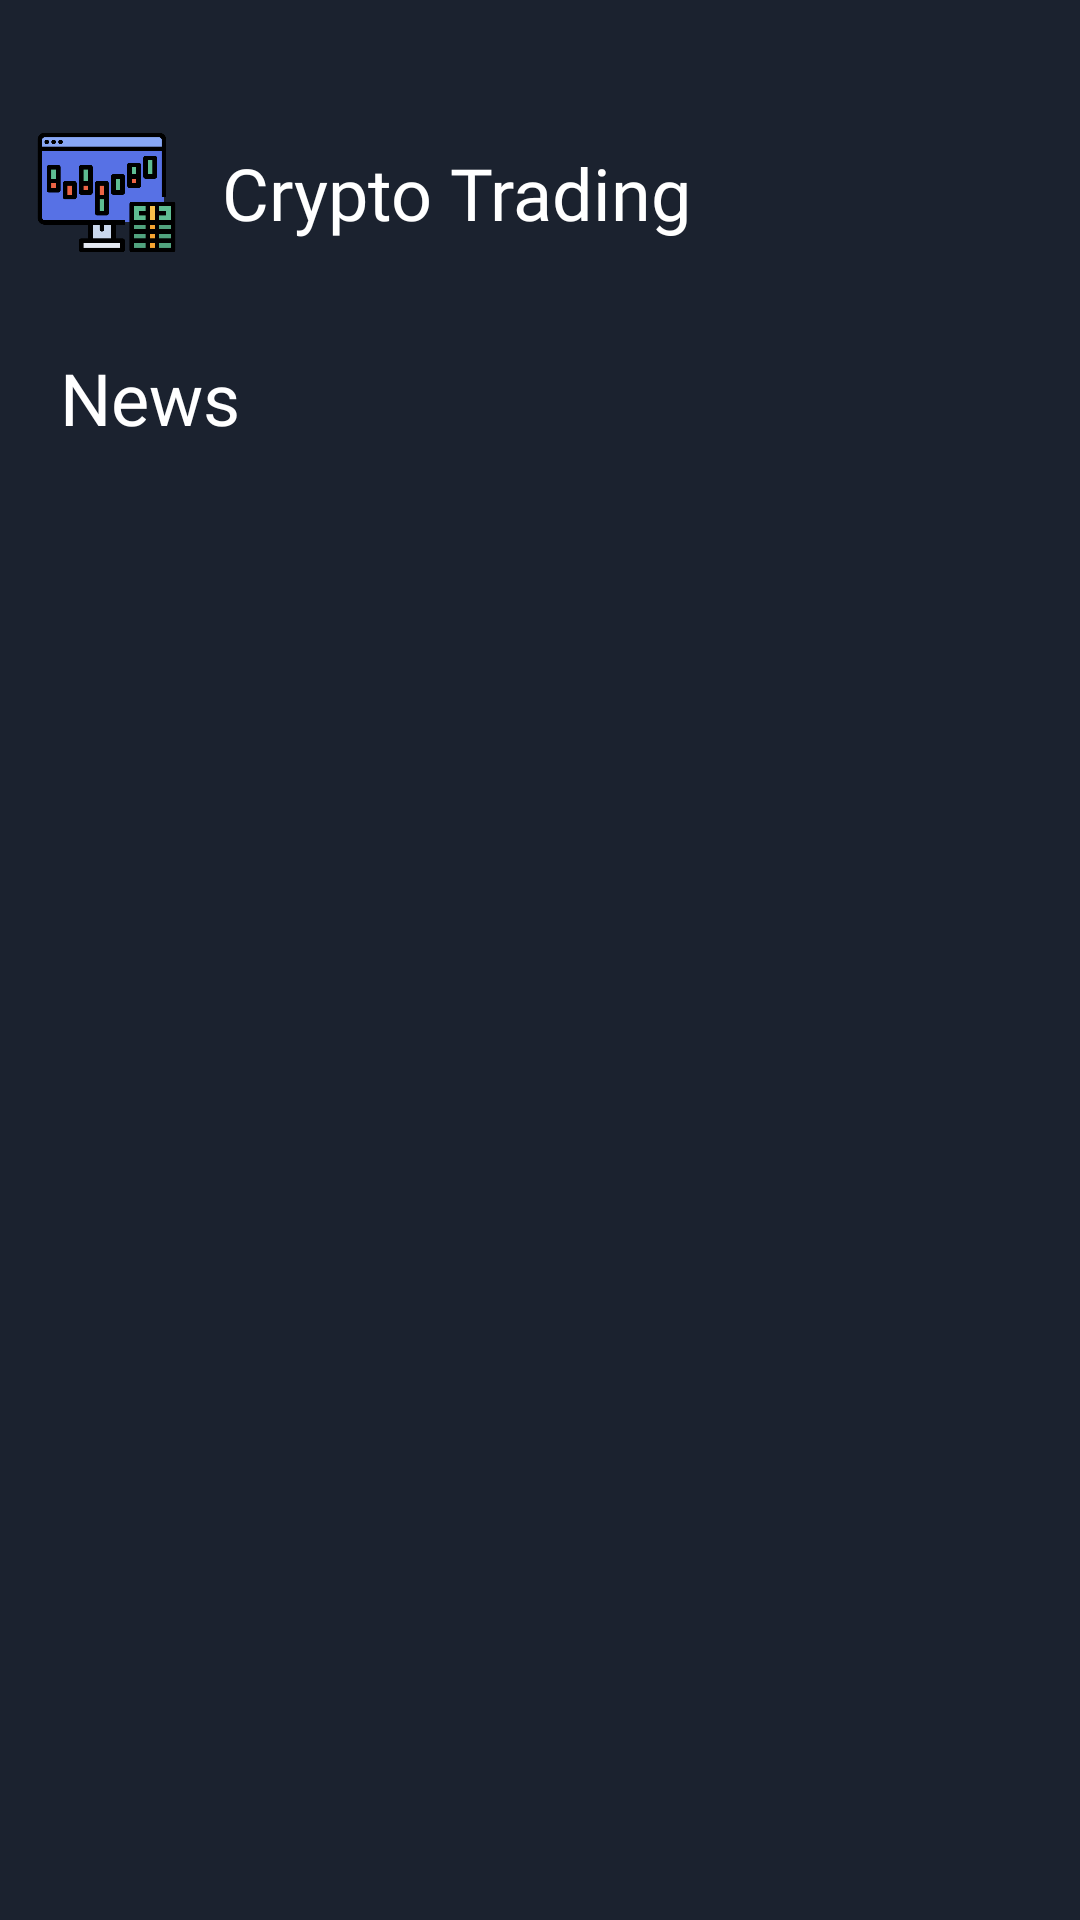

Point at icon controls on the screen. Image size 1080 × 1920, points as point (x, y).
investment: point (106, 192)
